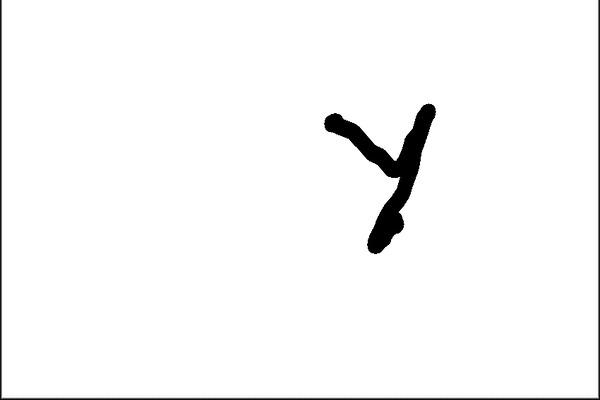Y: (311, 97, 448, 258)
